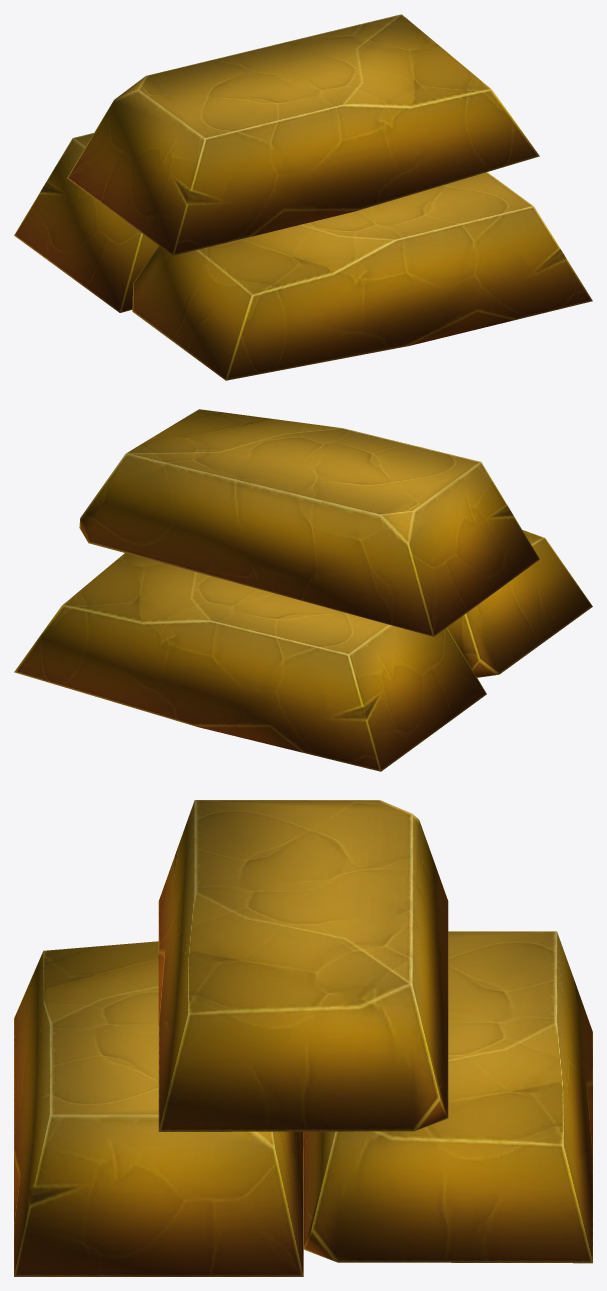
The model's file is Gold_Pile_2.glb.
The picture shows the model from 3 angles, top to bottom: view 1: azimuth 30°, elevation 25°; view 2: azimuth 150°, elevation 25°; view 3: azimuth 270°, elevation 25°; orthographic projection. The views are drawn at different scales.
Parts seen in each view (by area): view 1: Gold-05; view 2: Gold-05; view 3: Gold-05.
Boxes of the visible parts, bbox=[...] form: Gold-05: bbox=[14, 14, 592, 380]; Gold-05: bbox=[14, 409, 592, 771]; Gold-05: bbox=[14, 800, 592, 1276].
Size of the model in its own units: 0.33 by 0.165 by 0.33.
1 material, 1 textured.
